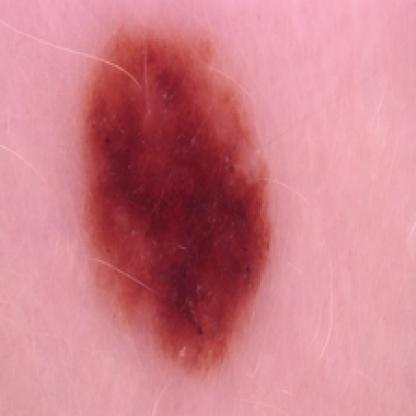benign: (86, 20, 278, 366)
